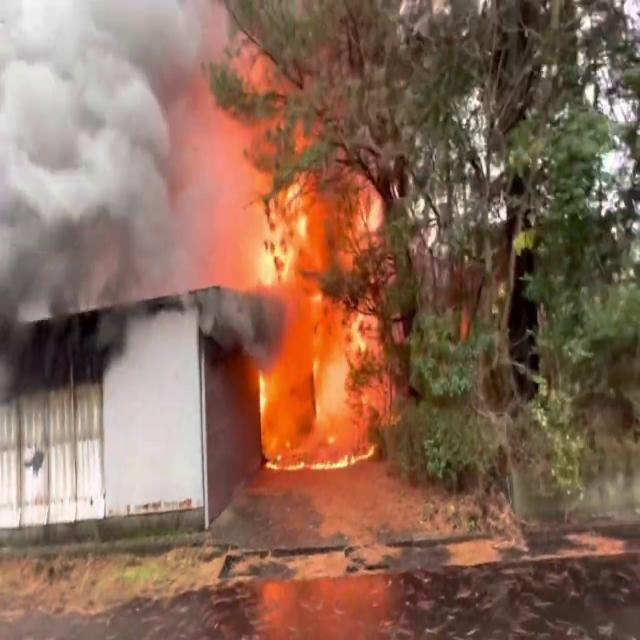Fire: (199, 76, 391, 468)
Smoke: (0, 0, 246, 384)
